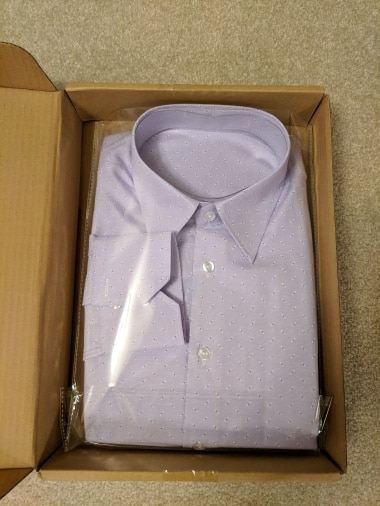shirts: (66, 104, 326, 445)
